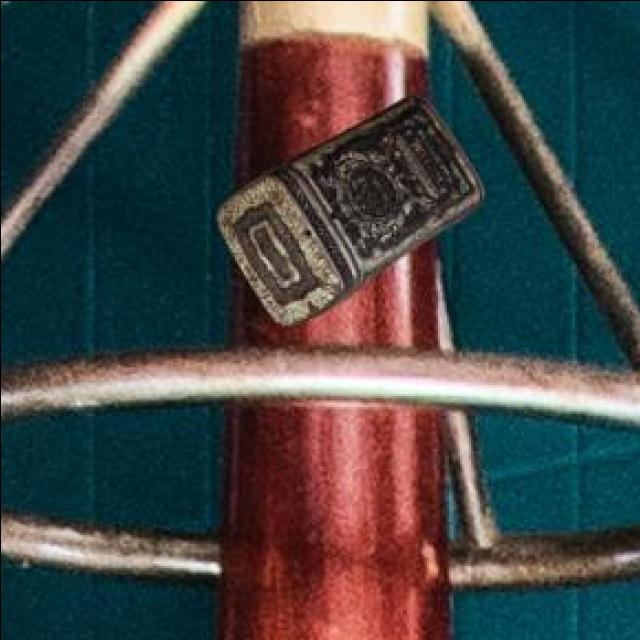logam: (213, 98, 480, 328)
